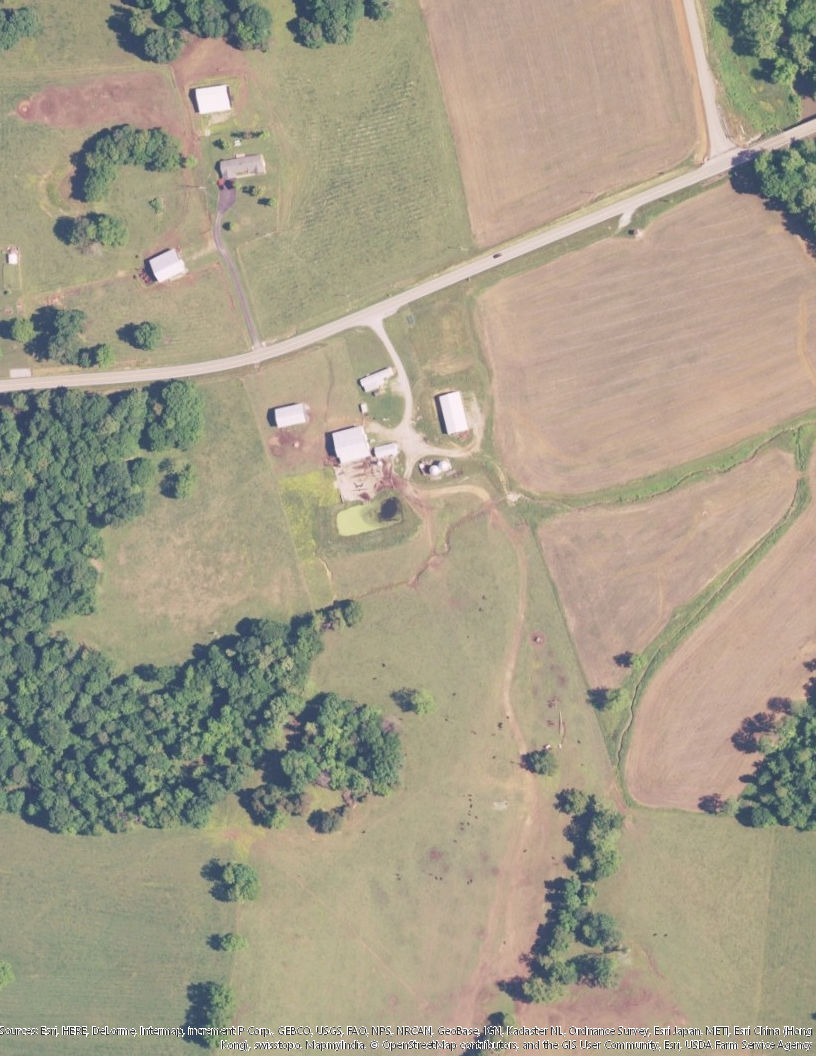cafo: (434, 389, 472, 439), (144, 246, 189, 282), (329, 424, 371, 460), (193, 80, 234, 115), (270, 400, 309, 430)
